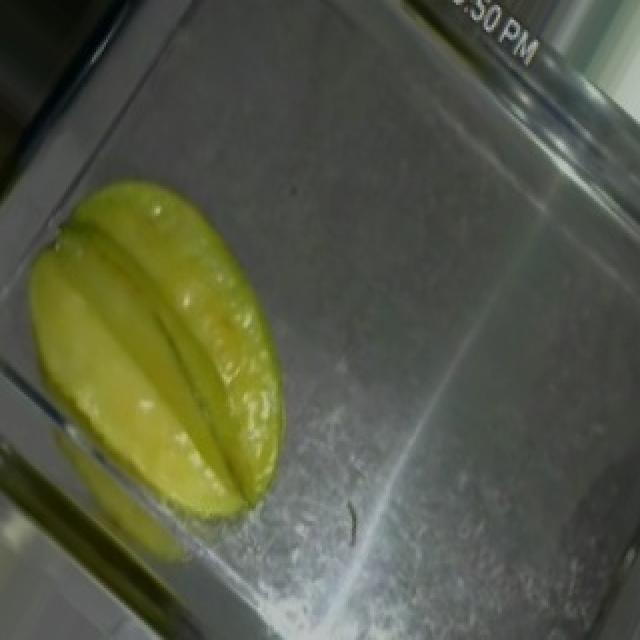fruit: (4, 139, 374, 561)
